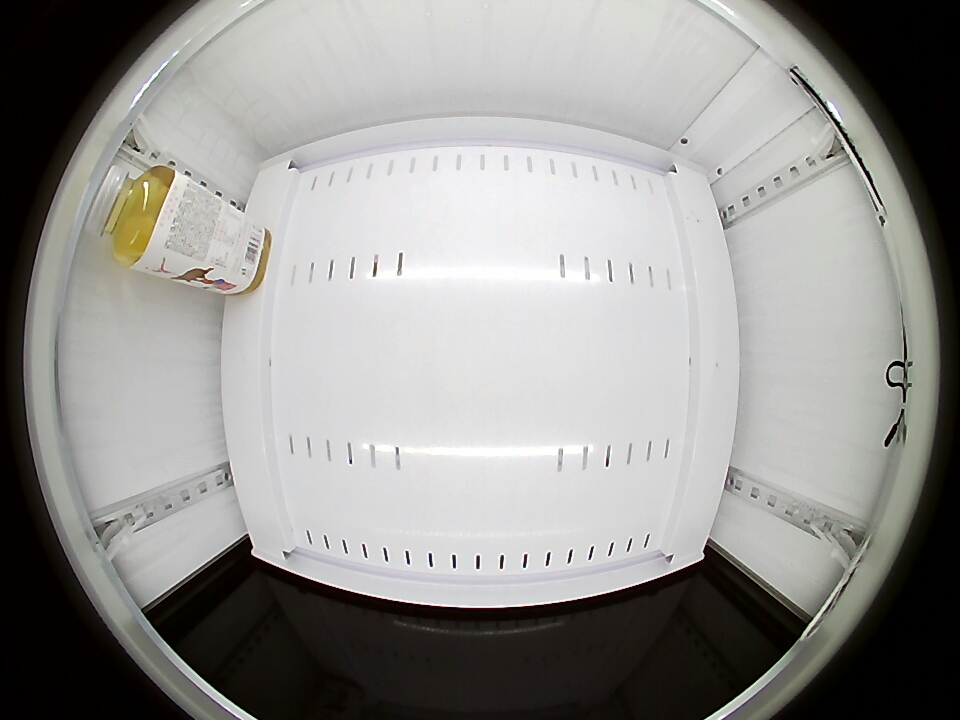chapai: (101, 165, 183, 272)
